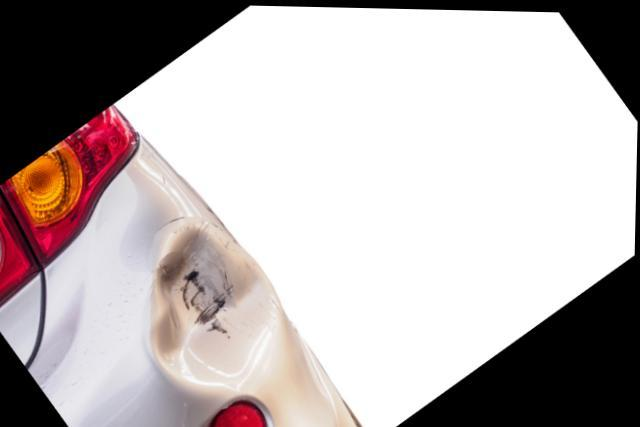dent: (154, 220, 283, 389)
